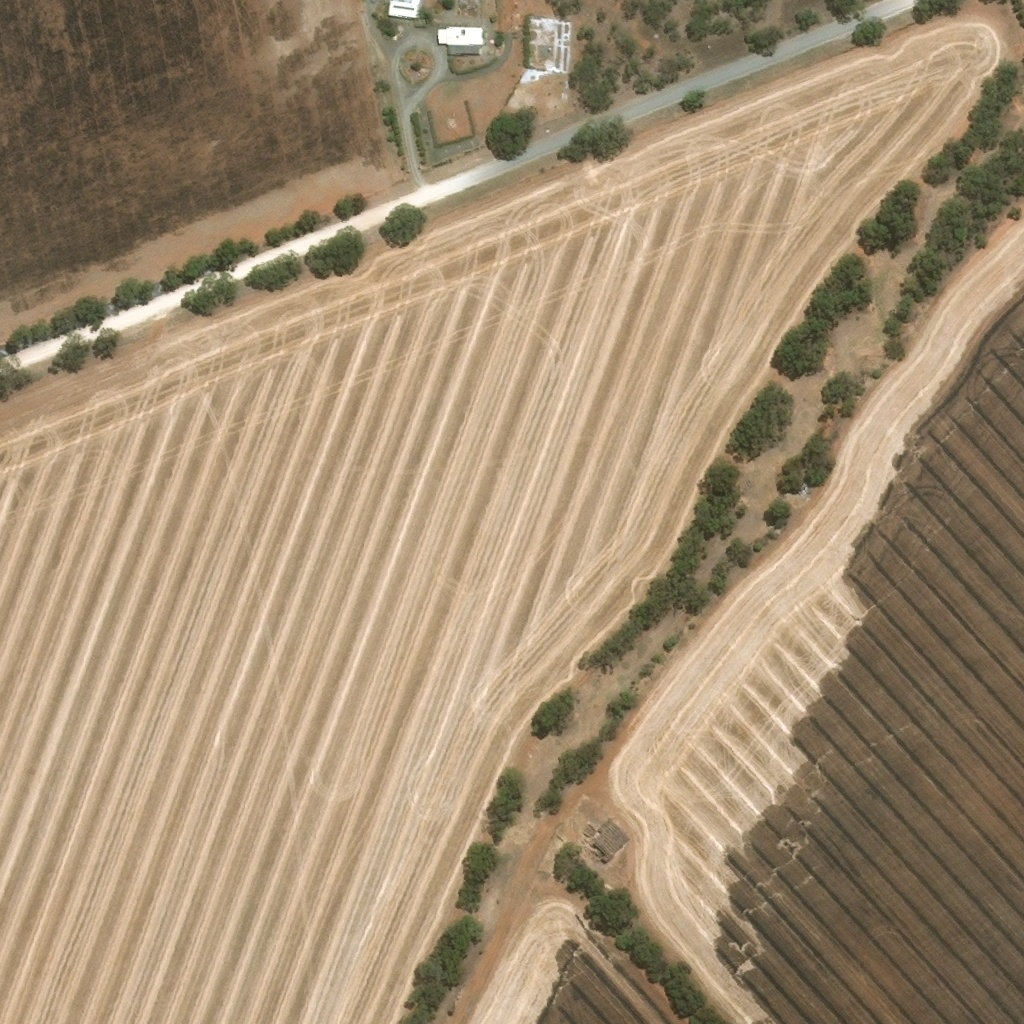0 no-damage: (437, 29, 483, 57), (386, 0, 419, 20)
